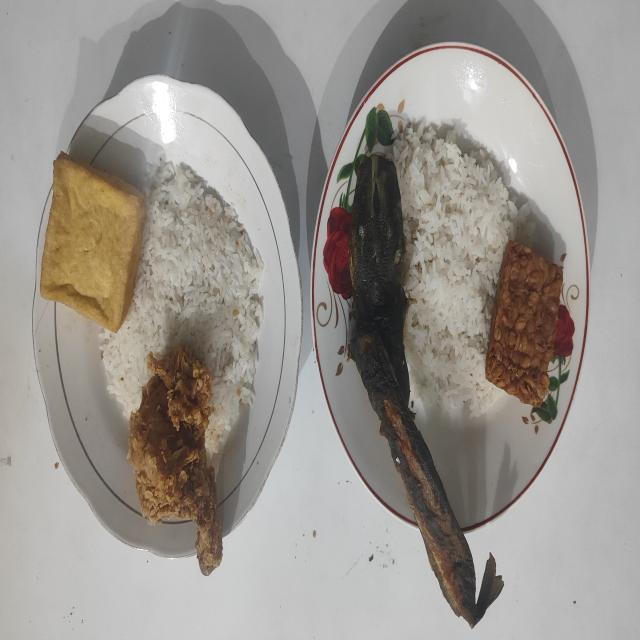nasi_putih: (100, 160, 263, 458), (386, 120, 536, 418)
tahu_goreng: (40, 153, 146, 332)
tempe_goreng: (486, 240, 563, 406)
